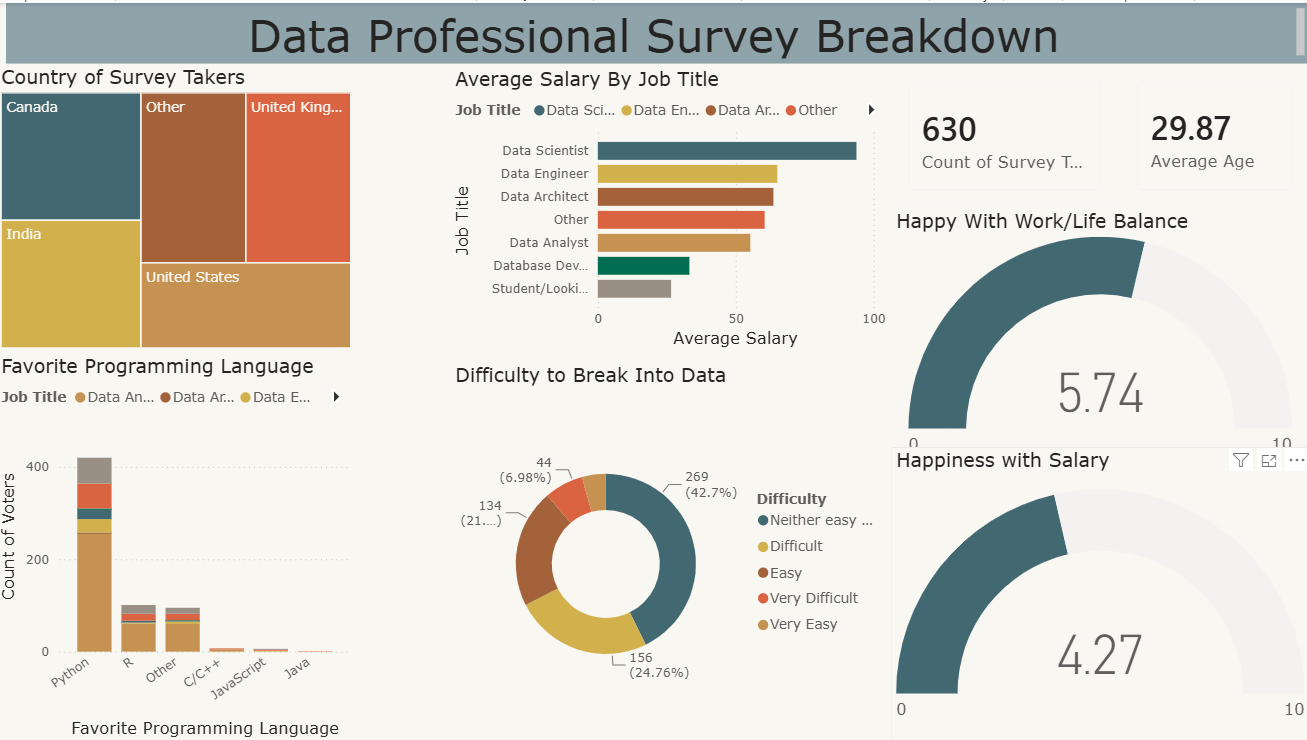

The dashboard page shown, as its layout file describes it:
{"tool":"powerbi","page":{"name":"Page 1","canvas":[1280,720],"ordinal":0},"visuals":[{"type":"textbox","box":[9.7,0,1270.3,59.3],"z":0},{"type":"cardVisual","fields":{"Data":["CountNonNull(Data Professional Survey (2).Unique ID)"]},"box":[872.1,61.2,222.2,138.3],"z":1000},{"type":"cardVisual","fields":{"Data":["Avg(Data Professional Survey (2).Q10 - Current Age)"]},"box":[1094.6,59.2,185.4,140],"z":2000},{"type":"barChart","title":"Average Salary By Job Title","fields":{"Category":["Data Professional Survey (2).Q1 - Which Title Best Fits your Current Role?.1"],"Y":["Avg(Data Professional Survey (2).Average Salary)"],"Series":["Data Professional Survey (2).Q1 - Which Title Best Fits your Current Role?.1"]},"box":[442.5,61.2,429.6,279.5],"z":3000},{"type":"columnChart","title":"Favorite Programming Language","fields":{"Category":["Data Professional Survey (2).Q5 - Favorite Programming Language.1"],"Y":["CountNonNull(Data Professional Survey (2).Unique ID)"],"Series":["Data Professional Survey (2).Q1 - Which Title Best Fits your Current Role?.1"]},"box":[0,340.7,350.6,379.3],"z":4000},{"type":"treemap","title":"Country of Survey Takers","fields":{"Group":["Data Professional Survey (2).Q11 - Which Country do you live in?.1"],"Values":["Count(Data Professional Survey (2).Q11 - Which Country do you live in?.1)"]},"box":[0,59.3,350.6,281.5],"z":5000},{"type":"gauge","title":"Happy With Work/Life Balance","fields":{"Y":["Avg(Data Professional Survey (2).Q6 - How Happy are you in your Current Position with the following? (Work/Life Balance)"],"MinValue":["Min(Data Professional Survey (2).Q6 - How Happy are you in your Current Position with the following? (Work/Life Balance)"],"MaxValue":["Max(Data Professional Survey (2).Q6 - How Happy are you in your Current Position with the following? (Work/Life Balance)"]},"box":[872.1,199.5,407.9,248.9],"z":6000},{"type":"gauge","title":"Happiness with Salary","fields":{"Y":["Avg(Data Professional Survey (2).Q6 - How Happy are you in your Current Position with the following? (Salary))"],"MinValue":["Min(Data Professional Survey (2).Q6 - How Happy are you in your Current Position with the following? (Salary))"],"MaxValue":["Max(Data Professional Survey (2).Q6 - How Happy are you in your Current Position with the following? (Salary))"]},"box":[872.1,432.6,407.9,287.4],"z":7000},{"type":"donutChart","title":"Difficulty to Break Into Data","fields":{"Category":["Data Professional Survey (2).Q7 - How difficult was it for you to break into Data?"],"Y":["CountNonNull(Data Professional Survey (2).Q7 - How difficult was it for you to break into Data?)"]},"box":[442.5,349.6,429.6,370.4],"z":8000}]}

Visuals, with their boxes in screenshot pixels (x1, y1, x2, y2), scaled from the page's 1280x720 canvas onto the 1307x740 screenshot:
textbox: locate(10, 0, 1306, 61)
cardVisual - CountNonNull(Data Professional Survey (2).Unique ID): locate(890, 63, 1117, 205)
cardVisual - Avg(Data Professional Survey (2).Q10 - Current Age): locate(1118, 61, 1306, 205)
"Average Salary By Job Title" barChart: locate(452, 63, 890, 350)
"Favorite Programming Language" columnChart: locate(0, 350, 358, 739)
"Country of Survey Takers" treemap: locate(0, 61, 358, 350)
"Happy With Work/Life Balance" gauge: locate(890, 205, 1306, 461)
"Happiness with Salary" gauge: locate(890, 445, 1306, 739)
"Difficulty to Break Into Data" donutChart: locate(452, 359, 890, 739)
